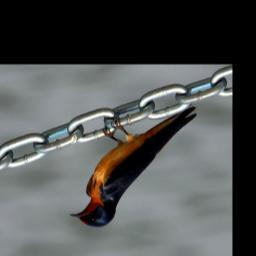Swallow: (68, 103, 198, 228)
